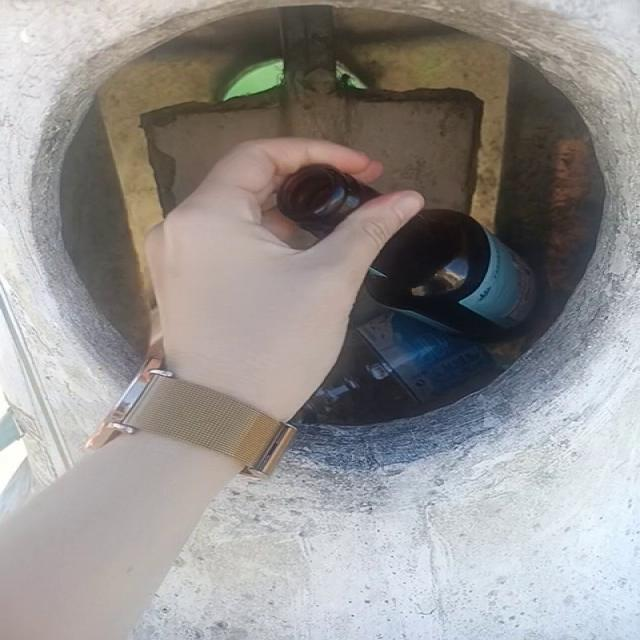glass: (367, 209, 536, 340), (277, 164, 380, 238)
